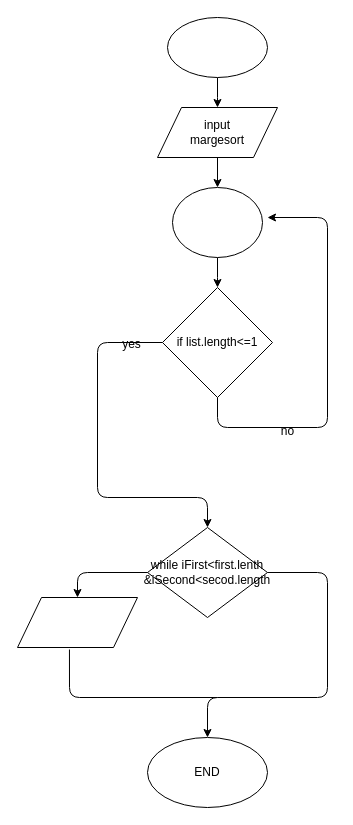
Image size: 353x825. Some labels were removed from this diagram. Each missing label, with the centre of its shape:
"loop" belongs at point (217, 222).
"START" belongs at point (217, 47).
